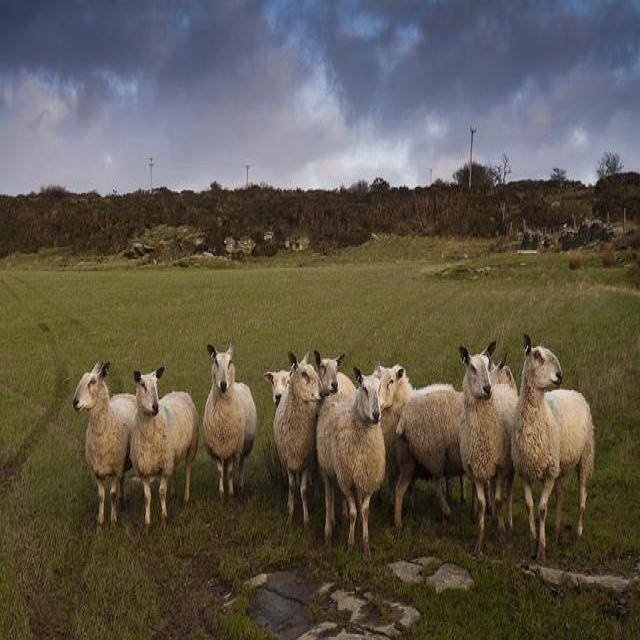Sheep: (394, 349, 520, 544), (513, 336, 594, 558), (316, 358, 386, 560), (458, 343, 518, 559), (379, 364, 456, 527), (130, 366, 201, 532), (72, 360, 138, 530), (272, 351, 326, 528), (205, 340, 257, 506)
